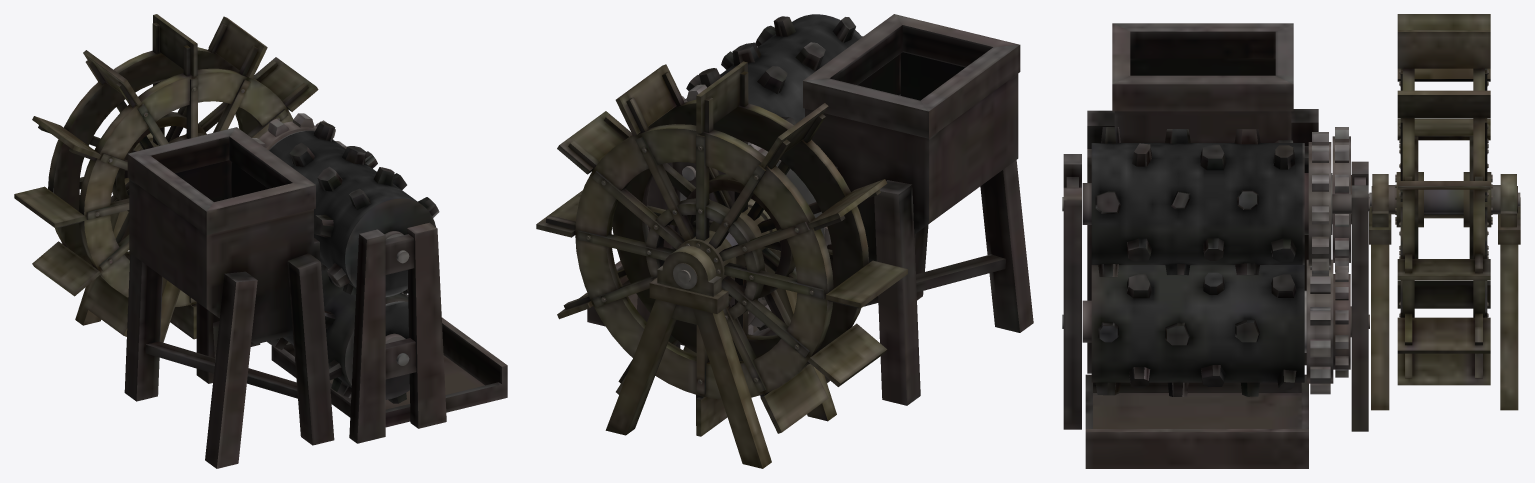
File: SK_Pulverizer_852f4f.glb
3 renders of one model, left to right at view 1: azimuth 30°, elevation 25°; view 2: azimuth 150°, elevation 25°; view 3: azimuth 270°, elevation 25°, orthographic. The views are drawn at different scales.
Bounding box in the file's own units: 2.63 × 2.36 × 2.88.
Materials: 1 (1 with a texture image).
